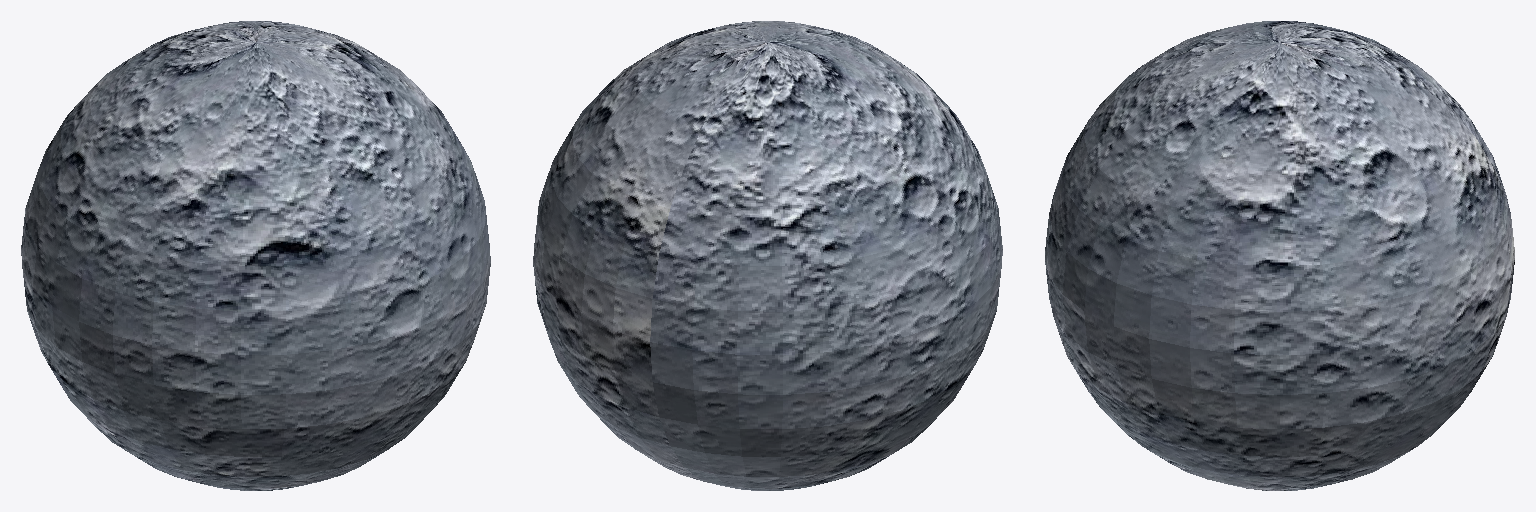
The picture shows the model from 3 angles: view 1: azimuth 30°, elevation 25°; view 2: azimuth 150°, elevation 25°; view 3: azimuth 270°, elevation 25°; orthographic projection.
Visible parts, largest first — view 1: Sphere001; view 2: Sphere001; view 3: Sphere001.
Part boxes in pixels (bbox=[...]): Sphere001: bbox=[21, 21, 490, 490]; Sphere001: bbox=[533, 21, 1002, 490]; Sphere001: bbox=[1045, 21, 1514, 490].
Size of the model in its own units: 46.56 by 46.56 by 46.56.
Materials: 1 (1 with a texture image).